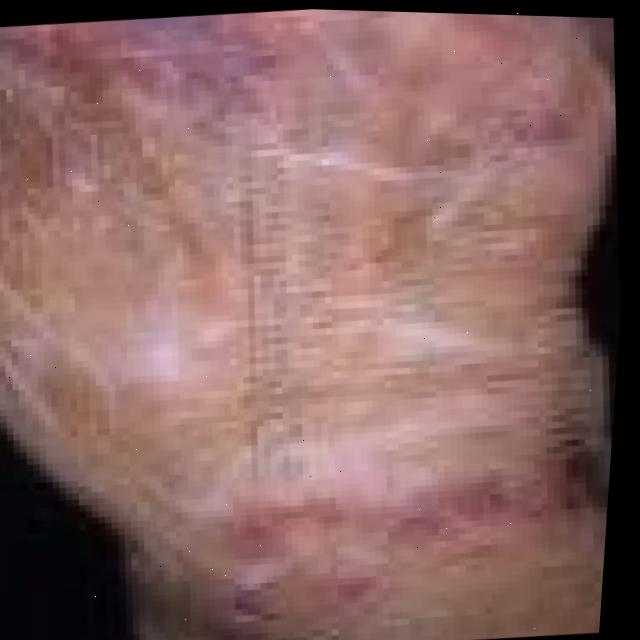Melasma: (242, 423, 593, 623), (391, 61, 576, 209), (93, 5, 287, 120)
